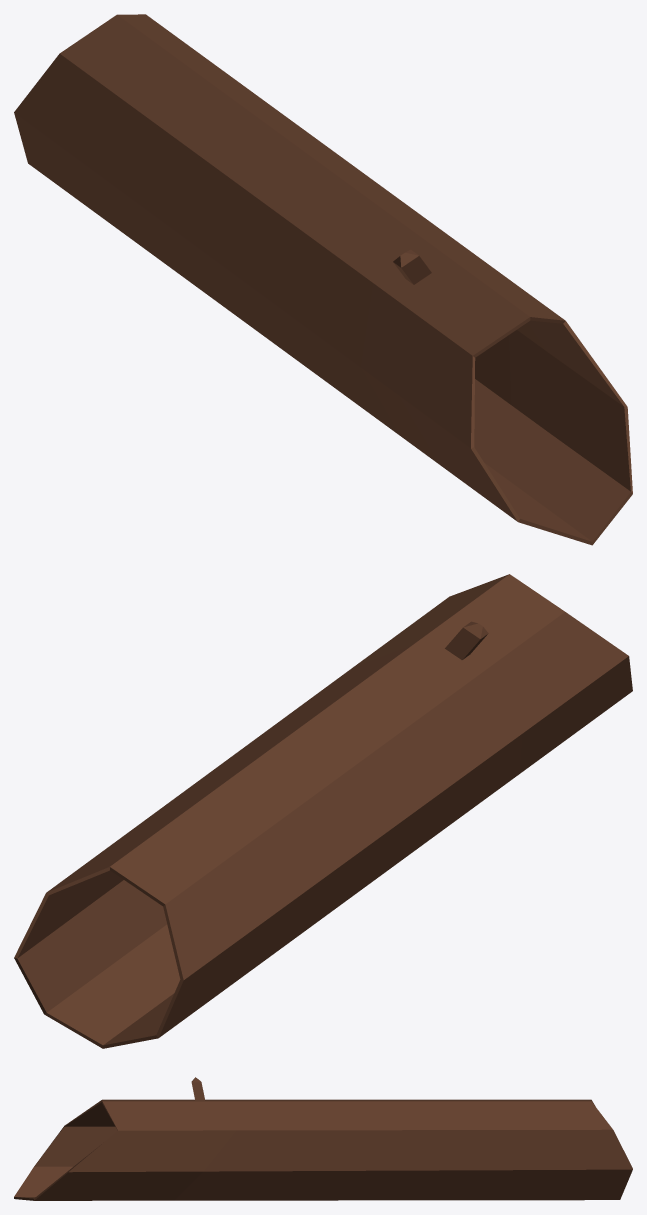
The model's file is bark1.fbx.
3 renders of one model, top to bottom at view 1: azimuth 30°, elevation 25°; view 2: azimuth 150°, elevation 25°; view 3: azimuth 270°, elevation 25°, orthographic. The views are drawn at different scales.
Visible parts, largest first — view 1: Cylinder; view 2: Cylinder; view 3: Cylinder.
Part boxes in pixels (bbox=[...]): Cylinder: bbox=[14, 14, 632, 545]; Cylinder: bbox=[14, 574, 632, 1048]; Cylinder: bbox=[14, 1077, 632, 1200].
Bounding box in the file's own units: 91.75 × 103 × 518.
